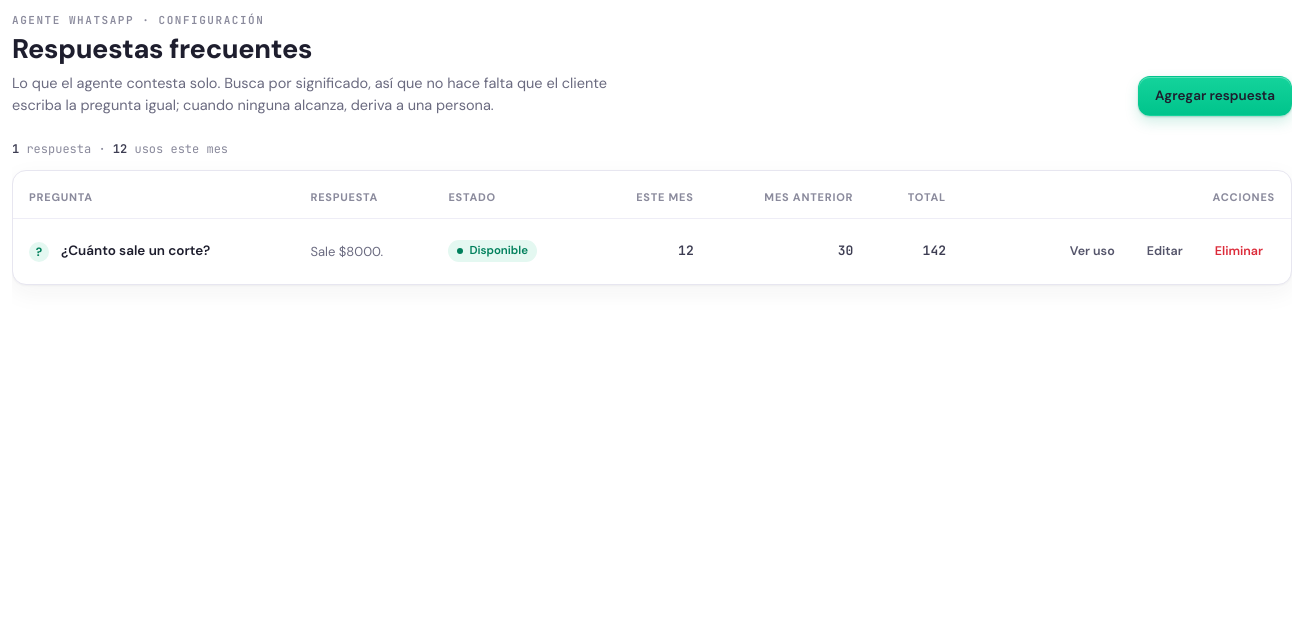
PAN-WA-02 — respuestas frecuentes › sin comparación posible muestra el motivo y ningún porcentaje
Click the button "Ver uso".
click(1092, 251)  # box [1058, 234, 1127, 269]
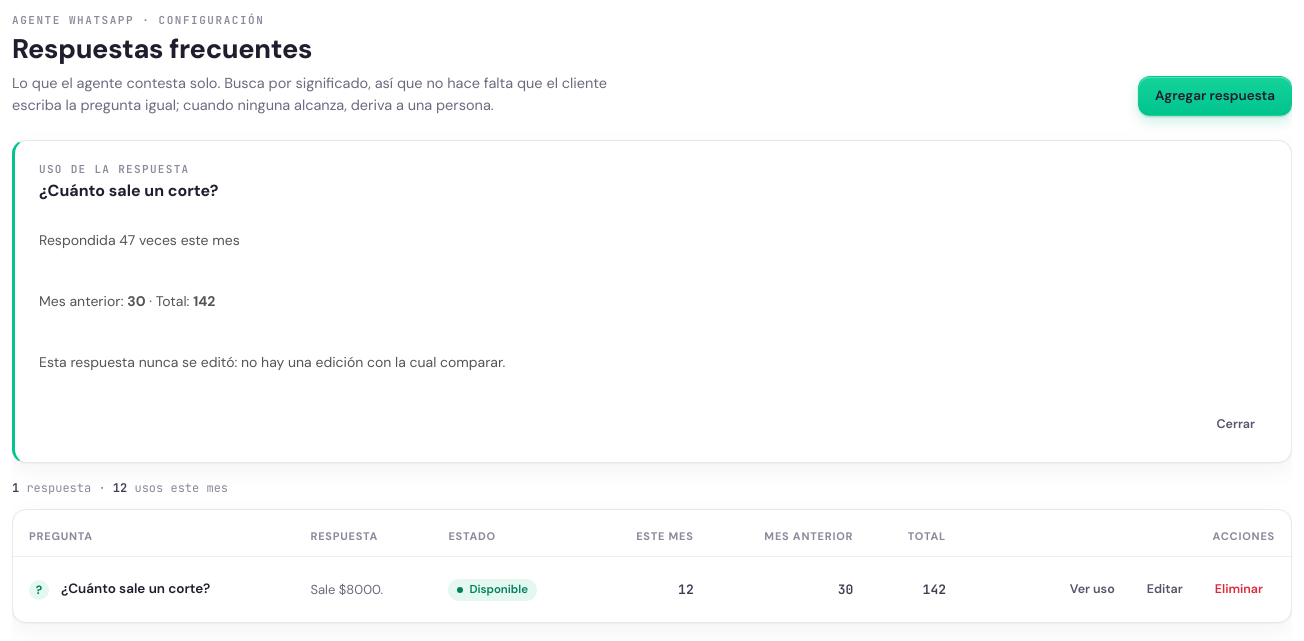
Result: the text "Esta respuesta nunca se editó: no hay una edición con la cual comparar." is shown at [39, 353, 505, 371]
